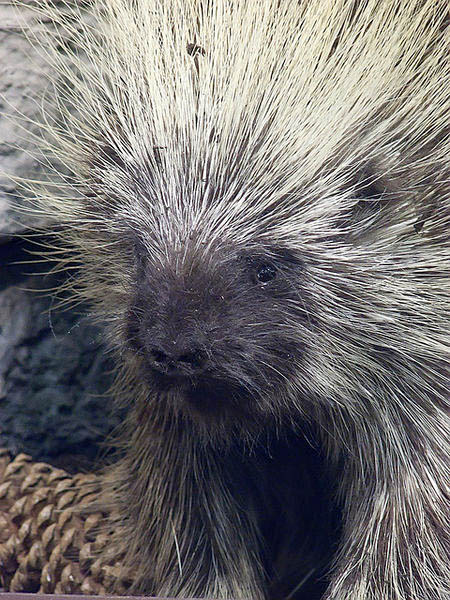porcupine: (20, 1, 450, 582)
